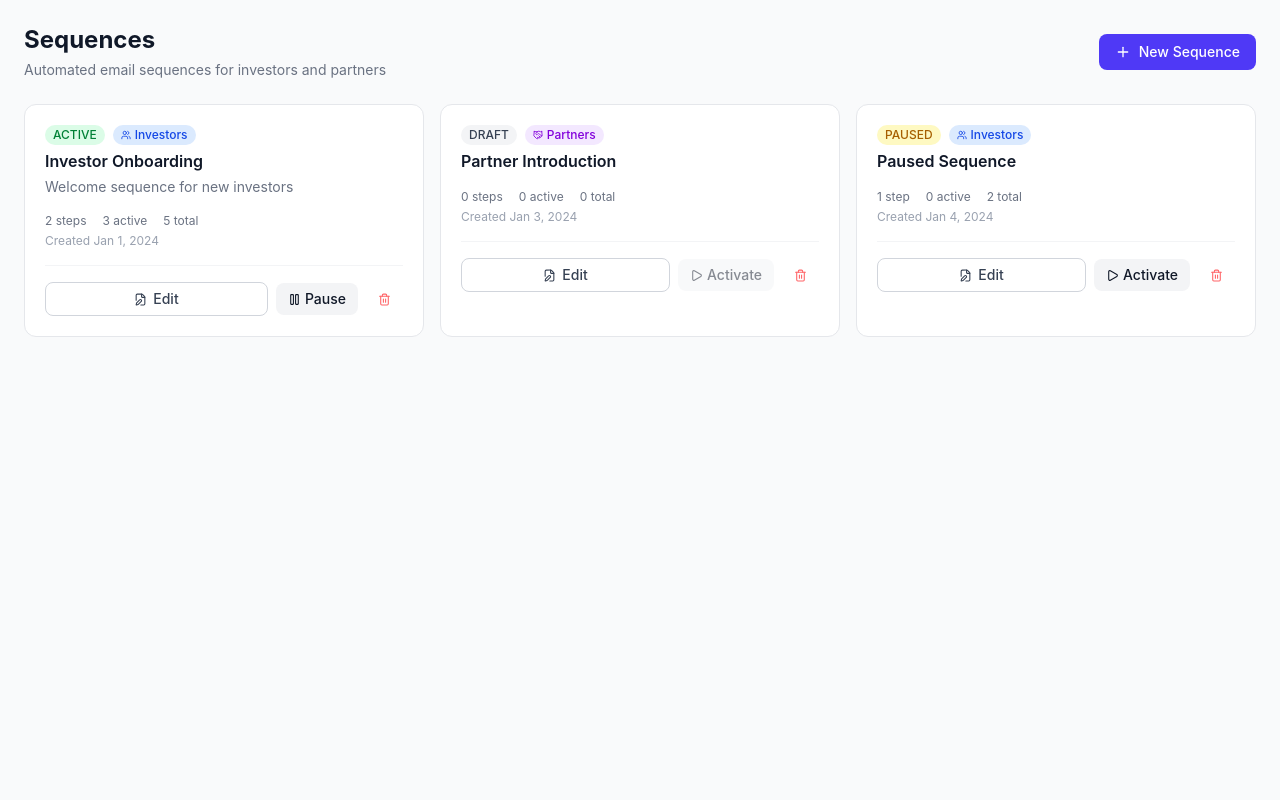
SequencesPage › shows error when creating sequence without a name
Click the button "New Sequence" at x=1177, y=52, box x1=1099 y1=34 x2=1256 y2=70
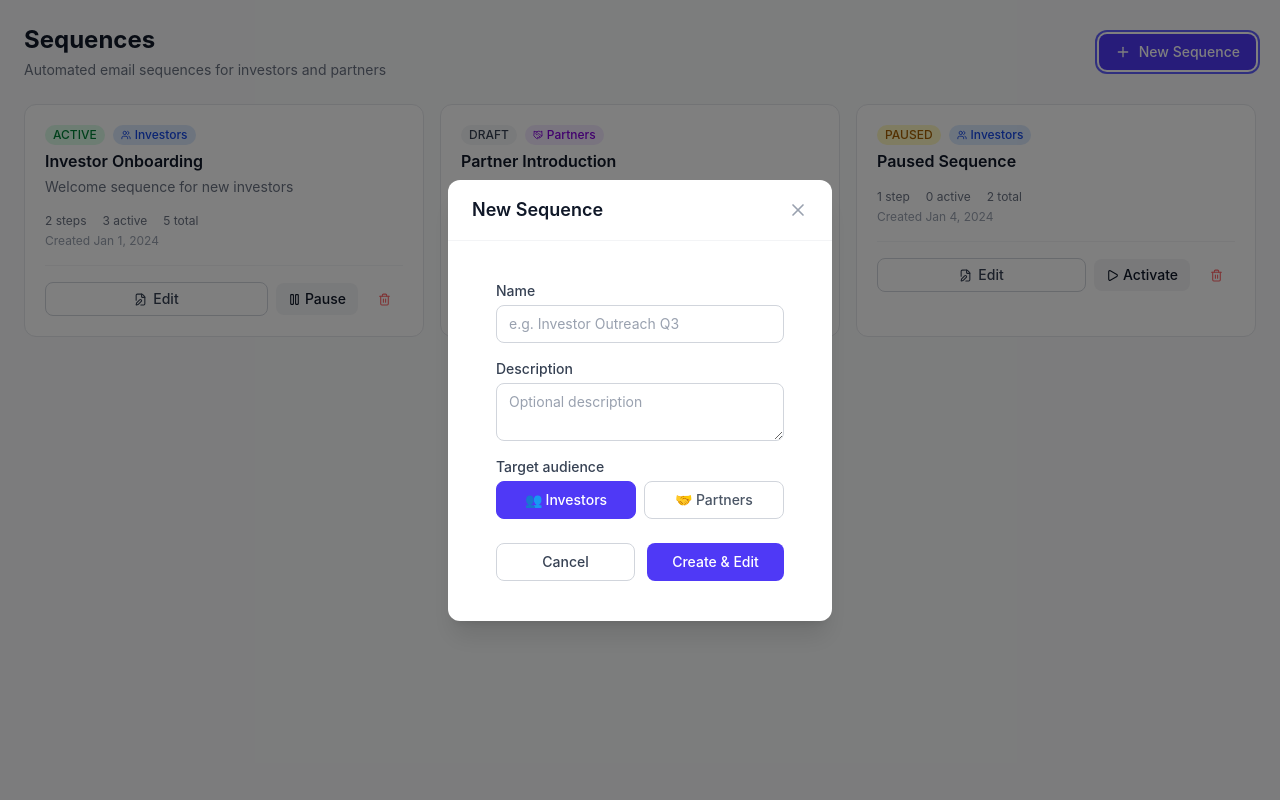
Result: the dialog is shown at x1=448 y1=180 x2=832 y2=620
Note: Click "Create & Edit" without filling name
Click the button "Create & Edit" at x=716, y=562, box x1=647 y1=542 x2=784 y2=580
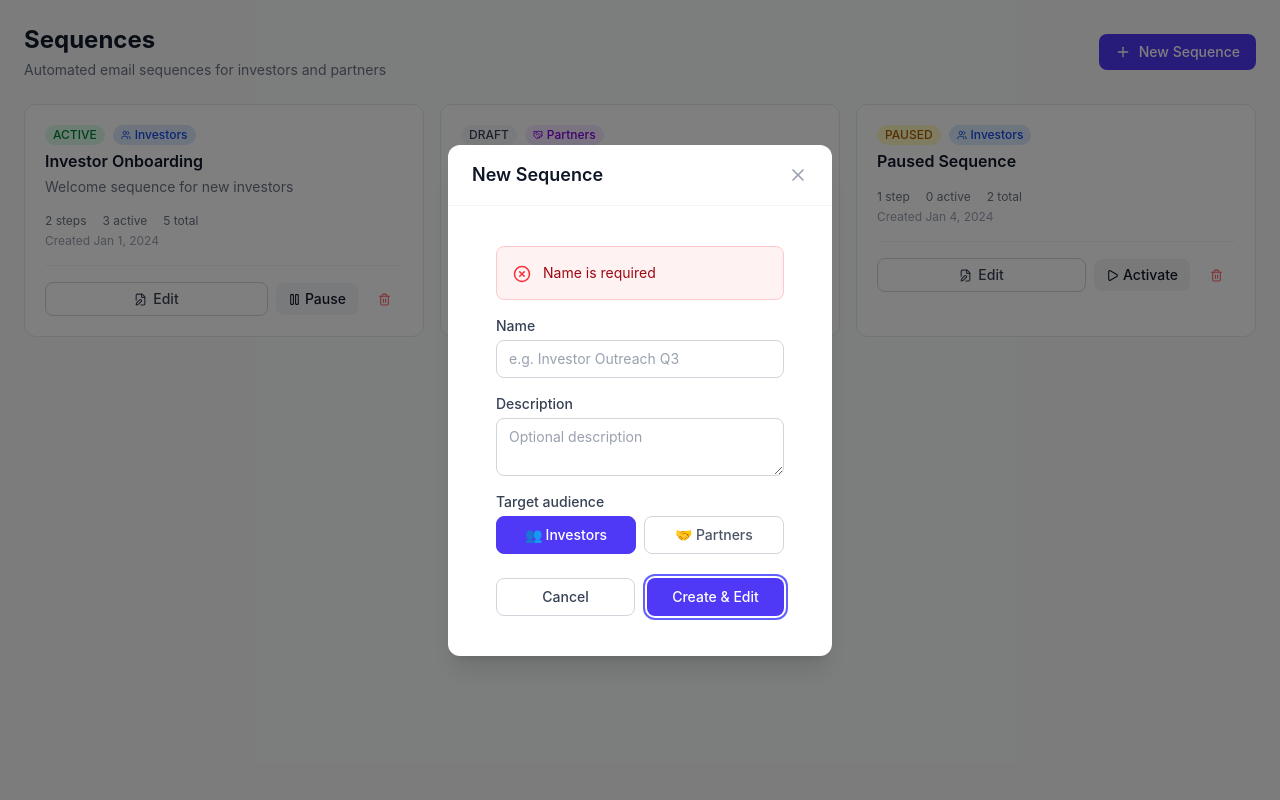
Result: the text "Name is required" is shown at x1=543 y1=264 x2=656 y2=280
